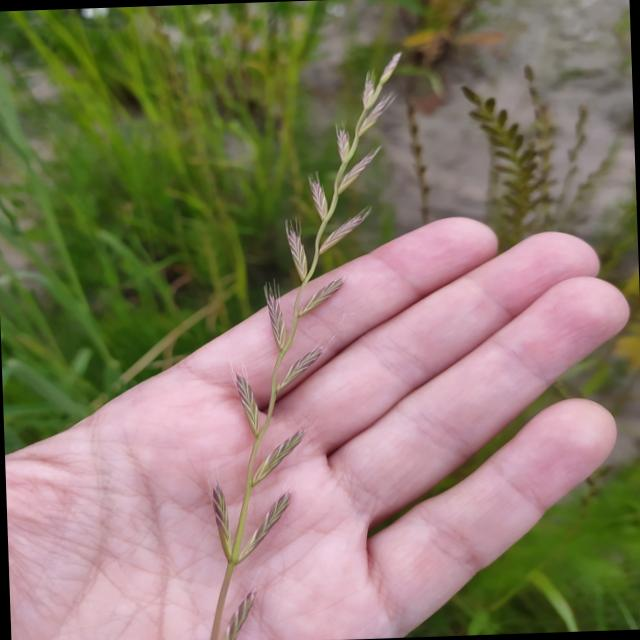Lolium: (182, 48, 426, 640)
